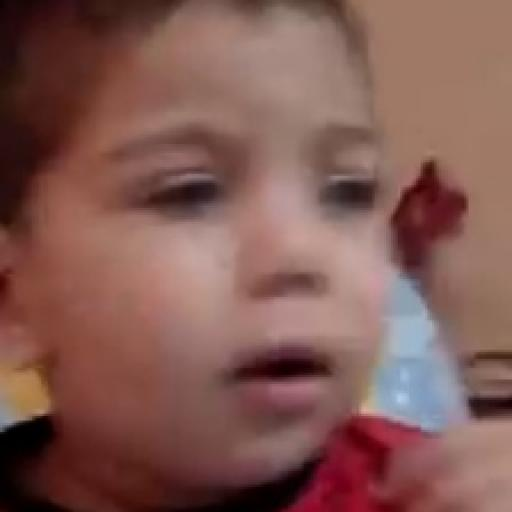Autism: (39, 25, 510, 512)
